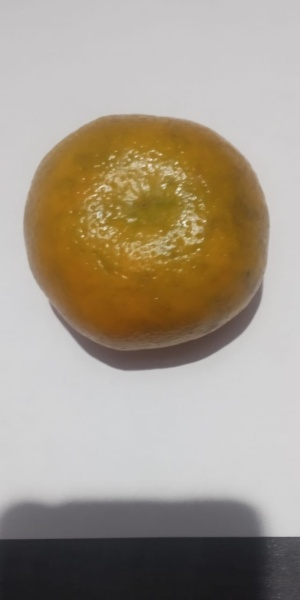BAD: (21, 111, 273, 358)
